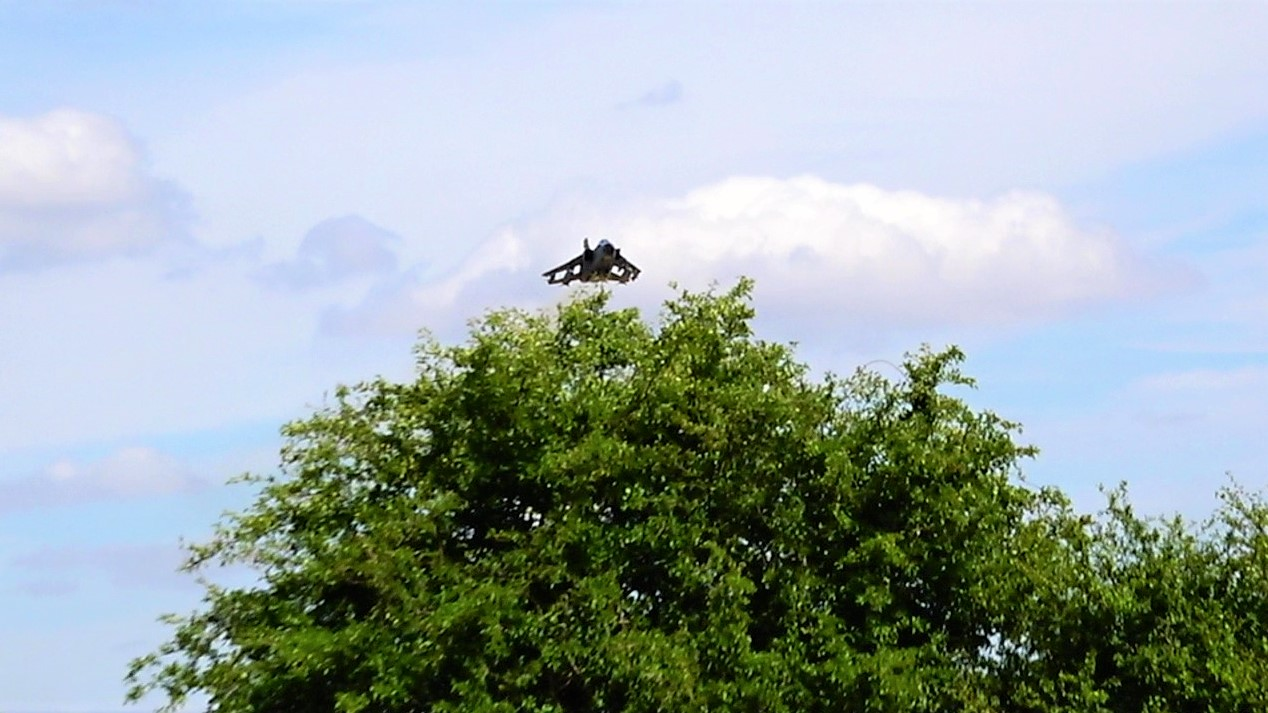Tornado: (540, 237, 642, 288)
